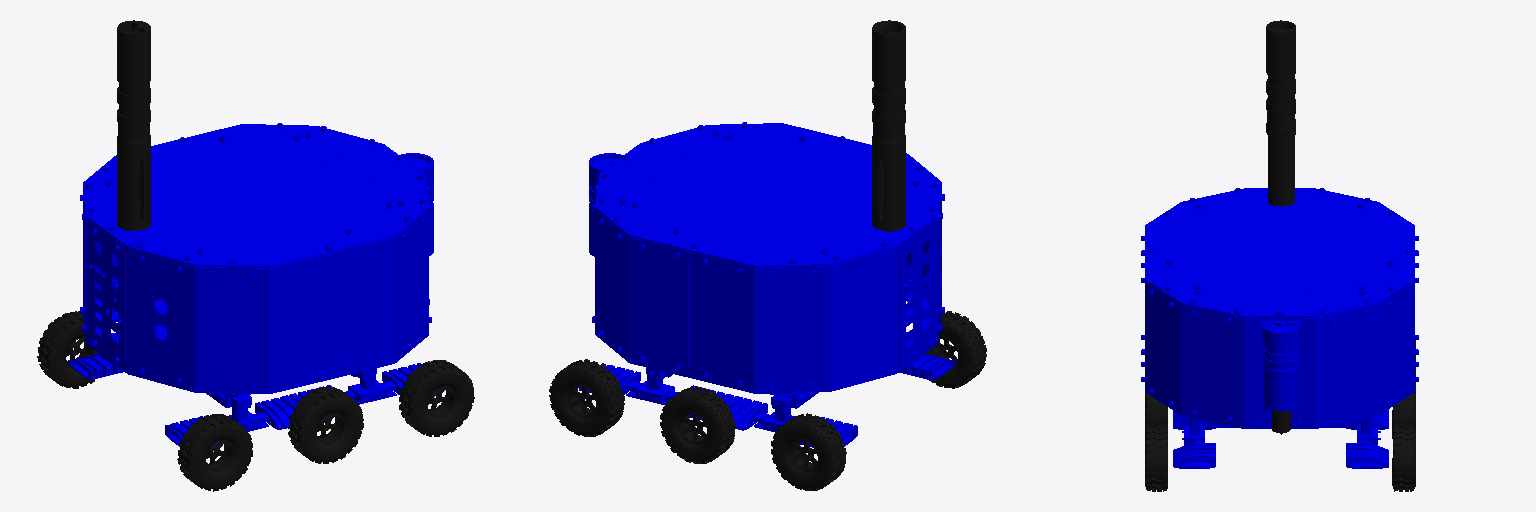
URDF robot description (eva_mars):
<?xml version='1.0'?>
<robot name='eva_mars'>
  
  <!-- Base Footprint 
    <link name="base_footprint"/> 
    <joint name="base_footprint_joint" type="fixed">     	
	<parent link="base_footprint"/>
     	<child link="base_link"/>	
    </joint> -->
    
    
   <!-- Base_Link (Taban)-->
   
    <link name='base_link'>
    	<inertial>
      	  <mass value="10.0"/>
      	  <origin xyz="0 0 0.12"/>
      	  <inertia ixx="0.149" ixy="0.0" ixz="0.0" iyy="0.098" iyz="0.0" izz="0.2433"/>
    	</inertial>
    
    	<visual>
      	  <origin rpy="1.57 0 1.57" xyz="-0.12 0.0 0.14"/>
      	    <geometry>
        	<!--<box size ="0.33 0.42 0.05"/>-->
        	    <mesh filename="package://eva_mars_description/meshes/base_taban.stl" scale="0.0035 0.0009 0.0015"/>
      	    </geometry>
      	    <material name="ChassisBlack">
        	    <color rgba="0.0 0.0 1.0 1.0"/>
      	    </material>
    	</visual>
    	<collision>
      	   <origin rpy="0 0 0" xyz="0 0 0.08"/>
      	    <geometry>
        	    <box size ="0.42 0.33 0.05"/>
      	    </geometry>
    	</collision> 
    	  
     </link>
     
   <!-- Base_link (Govde) -->
     
     <link name= 'base_govde'>

    	<visual>
      	  <origin rpy="0 0 0" xyz="0.075 -0.145 -0.07"/>
      	    <geometry>
        	    <mesh filename="package://eva_mars_description/meshes/model.stl" scale="0.0115 0.013 0.013"/>
        	<!--<box size = "0.34 0.42 0.16"/>-->
      	    </geometry>
      	    <material name="ChassisBlue">
        	    <color rgba="0.0 0.0 1.0 1.0"/>
      	    </material>
    	</visual>  
    	
    </link> 
    
     <joint name="base_govde_joint" type="fixed">
    	<origin rpy="0 0 0" xyz="0.0 -0.0 0.01"/>
    	<parent link="base_link"/>
    	<child link="base_govde"/>
     </joint>
    
  <!-- Wheels -->
  
    <link name='right_back_wheel'>
    	<inertial>
      	  <mass value="3.0"/>
      	  <origin xyz="-0.0 0.0 0.0"/>
      	  <inertia ixx="0.0054" ixy="0.0" ixz="0.0" iyy="0.0054" iyz="0.0" izz="0.0054"/>
    	</inertial>
    
    	<visual>
      	  <origin rpy="0 1.57 0" xyz="0.054 -0.054 0.02"/>
      	    <geometry>
        	    <mesh filename="package://eva_mars_description/meshes/wheel.stl" scale="0.025 0.025 0.025"/>
      	    </geometry>
      	    <material name="WheelBlack">
        	    <color rgba="0.117 0.117 0.117 1"/>
      	    </material>
    	</visual>
    	<collision>
      	   <origin rpy="0 0 0" xyz="0.0 0.0 0.0"/>
      	    <geometry>
      	        <cylinder length ="0.0575" radius ="0.045"/>
      	    </geometry>
    	</collision>   
     </link>
     
     <joint name="right_back_joint" type="continuous">
    	<axis xyz="0 0 -1"/>
    	<origin rpy="1.57 0 0" xyz="-0.1825 -0.20 0.0575"/>
    	<parent link="base_link"/>
    	<child link="right_back_wheel"/>
     </joint>
     
    <link name='right_middle_wheel'>
    	<inertial>
      	  <mass value="3.0"/>
      	  <origin xyz="-0.0 0.0 0.0"/>
      	  <inertia ixx="0.0054" ixy="0.0" ixz="0.0" iyy="0.0054" iyz="0.0" izz="0.0054"/>
    	</inertial>
    
    	<visual>
      	  <origin rpy="0 1.57 0" xyz="0.054 -0.054 0.02"/>
      	    <geometry>
        	    <mesh filename="package://eva_mars_description/meshes/wheel.stl" scale="0.025 0.025 0.025"/>
      	    </geometry>
      	    <material name="WheelBlack">
        	    <color rgba="0.117 0.117 0.117 1"/>
      	    </material>
    	</visual>
    	<collision>
      	   <origin rpy="0 0 0" xyz="0.0 0.0 0.0"/>
      	    <geometry>
        	    <cylinder length ="0.0575" radius ="0.045"/>
      	    </geometry>
    	</collision>     
     </link>
     
     <joint name="right_middle_joint" type="continuous">
    	<axis xyz="0 0 -1"/>
    	<origin rpy="1.57 0 0" xyz="0.0 -0.20 0.0575"/>
    	<parent link="base_link"/>
    	<child link="right_middle_wheel"/>
     </joint>
     
    <link name='right_front_wheel'>
    	<inertial>
      	  <mass value="3.0"/>
      	  <origin xyz="-0.0 0.0 0.0"/>
      	  <inertia ixx="0.0054" ixy="0.0" ixz="0.0" iyy="0.0054" iyz="0.0" izz="0.0054"/>
    	</inertial>
    
    	<visual>
      	  <origin rpy="0 1.57 0" xyz="0.054 -0.054 0.02"/>
      	    <geometry>
        	    <mesh filename="package://eva_mars_description/meshes/wheel.stl" scale="0.025 0.025 0.025"/>
      	    </geometry>
      	    <material name="WheelBlack">
        	    <color rgba="0.117 0.117 0.117 1"/>
      	    </material>
    	</visual>
    	<collision>
      	   <origin rpy="0 0 0" xyz="0.0 0.0 0.0"/>
      	    <geometry>
        	    <cylinder length ="0.0575" radius ="0.045"/>
      	    </geometry>
    	</collision>    
     </link>
     
     <joint name="right_front_joint" type="continuous">
    	<axis xyz="0 0 -1"/>
    	<origin rpy="1.57 0 0" xyz="0.1825 -0.20 0.0575"/>
    	<parent link="base_link"/>
    	<child link="right_front_wheel"/>
     </joint>
     
    <link name='left_back_wheel'>
    	<inertial>
      	  <mass value="3.0"/>
      	  <origin xyz="-0.0 0.0 0.0"/>
      	  <inertia ixx="0.0054" ixy="0.0" ixz="0.0" iyy="0.0054" iyz="0.0" izz="0.0054"/>
    	</inertial>
    
    	<visual>
      	  <origin rpy="0 1.57 0" xyz="0.054 -0.054 0.02"/>
      	    <geometry>
        	    <mesh filename="package://eva_mars_description/meshes/wheel.stl" scale="0.025 0.025 0.025"/>
      	    </geometry>
      	    <material name="WheelBlack">
        	    <color rgba="0.117 0.117 0.117 1"/>
      	    </material>
    	</visual>
    	<collision>
      	   <origin rpy="0 0 0" xyz="-0.0 0.0 0.0"/>
      	    <geometry>
        	    <cylinder length ="0.0575" radius ="0.045"/>
      	    </geometry>
    	</collision>   
     </link>
     
     <joint name="left_back_joint" type="continuous">
    	<axis xyz="0 0 -1"/>
    	<origin rpy="1.57 0 0" xyz="-0.1825 0.20 0.0575"/>
    	<parent link="base_link"/>
    	<child link="left_back_wheel"/>
     </joint>
     
    <link name='left_middle_wheel'>
    	<inertial>
      	  <mass value="3.0"/>
      	  <origin xyz="-0.0 0.0 0.0"/>
      	  <inertia ixx="0.0054" ixy="0.0" ixz="0.0" iyy="0.0054" iyz="0.0" izz="0.0054"/>
    	</inertial>
    
    	<visual>
      	  <origin rpy="0 1.57 0" xyz="0.054 -0.054 0.02"/>
      	    <geometry>
        	    <mesh filename="package://eva_mars_description/meshes/wheel.stl" scale="0.025 0.025 0.025"/>
      	    </geometry>
      	    <material name="WheelBlack">
        	    <color rgba="0.117 0.117 0.117 1"/>
      	    </material>
    	</visual>
    	<collision>
      	   <origin rpy="0 0 0" xyz="0.0 0.0 0.0"/>
      	    <geometry>
        	    <cylinder length ="0.0575" radius ="0.045"/>
      	    </geometry>
    	</collision>   
     </link>
     
     <joint name="left_middle_joint" type="continuous">
    	<axis xyz="0 0 -1"/>
    	<origin rpy="1.57 0 0" xyz="0.0 0.2 0.0575"/>
    	<parent link="base_link"/>
    	<child link="left_middle_wheel"/>
     </joint>
     
    <link name='left_front_wheel'>
    	<inertial>
      	  <mass value="3.0"/>
      	  <origin xyz="-0.0 0.0 0.0"/>
      	  <inertia ixx="0.0054" ixy="0.0" ixz="0.0" iyy="0.0054" iyz="0.0" izz="0.0054"/>
    	</inertial>
    
    	<visual>
      	  <origin rpy="0 1.57 0" xyz="0.054 -0.054 0.02"/>
      	    <geometry>
        	    <mesh filename="package://eva_mars_description/meshes/wheel.stl" scale="0.025 0.025 0.025"/>
      	    </geometry>
      	    <material name="WheelBlack">
        	    <color rgba="0.117 0.117 0.117 1"/>
      	    </material>
    	</visual>
    	<collision>
      	   <origin rpy="0 0 0" xyz="0.0 0.0 0.0"/>
      	    <geometry>
        	    <cylinder length ="0.0575" radius ="0.045"/>
      	    </geometry>
    	</collision>   
     </link>

     <joint name="left_front_joint" type="continuous">
    	<axis xyz="0 0 -1"/>
    	<origin rpy="1.57 0 0" xyz="0.1825 0.20 0.0575"/>
    	<parent link="base_link"/>
    	<child link="left_front_wheel"/>
     </joint> 

<!-- Camera Port -->
    <link name='camera_port'>
    	<inertial>
      	  <mass value="1.0"/>
      	  <origin xyz="-0.0 0.0 0.0"/>
      	  <inertia ixx="0.00016667" ixy="0.0" ixz="0.0" iyy="0.0001667" iyz="0.0" izz="0.0001667"/>
    	</inertial>
    
    	<visual>
      	  <origin rpy="0 0 0" xyz="0 0 -0.3"/>
      	    <geometry>
        	<!--<box size="0.05 0.02 0.3"/> -->
        	    <mesh filename="package://eva_mars_description/meshes/drillbox.stl" scale="0.0008 0.0008 0.010"/>
      	    </geometry>
      	    <material name="WheelBlack">
        	    <color rgba="0.117 0.117 0.117 1"/>
      	    </material>
    	</visual>
    <!--	<collision>
      	   <origin rpy="0 0 0" xyz="0 0 0"/>
      	     <geometry>
        	<box size="0.05 0.05 0.3"/>
      	     </geometry>
    	</collision> -->  
    </link>

    <joint name="camera_port_joint" type="continuous">
    	<axis xyz="0 0 1"/>
    	<origin rpy="0 0 -1.57" xyz="-0.2 0.0 0.48"/>
    	<parent link="base_link"/>
    	<child link="camera_port"/>
    	<limit effort="10.0" lower="-0.10" upper="0.10" velocity="0.5"/>
    </joint>
     
<!-- Camera Link -->
    <link name="camera_link">
     	<collision>
     	    <origin xyz="0 0 0" rpy="-1.57 0 0"/>
	        <geometry>
		        <box size="0.015 0.031 0.027"/>
	        </geometry>
	    </collision>

	    <visual>
	        <origin xyz="0 0 0" rpy="-1.57 0 -1.570796"/>
	        <geometry>
	            <mesh filename="package://eva_mars_description/meshes/camera.stl" scale="0.0011 0.0011 0.0011"/> 
	        </geometry>
	    </visual>
    </link>

    <joint name="camera_joint" type="fixed">
		<origin xyz="0.0 0.04 0.158" rpy="0 0 1.570796"/>
		<parent link="camera_port"/>
		<child link="camera_link"/>
    </joint>

    <joint name="camera_rgb_joint" type="fixed">
		<origin xyz="0.003 0.011 0.009" rpy="1.57 0 0"/>
		<parent link="camera_link"/>
		<child link="camera_rgb_frame"/>
    </joint>
	 
    <link name="camera_rgb_frame"/>

    <joint name="camera_rgb_optic_joint" type="fixed">
		<origin xyz="0 0 0" rpy="1.57 -1.57 1.57"/>
		<parent link="camera_rgb_frame"/>
		<child link="camera_rgb_optic_frame"/>
    </joint>
     
    <link name="camera_rgb_optic_frame"/>


<!-- Sondaj Components -->

     <link name="sondaj_link">

    	<inertial>
      	  <mass value="1.0"/>
      	  <origin xyz="-0.0 0.0 0.0"/>
      	  <inertia ixx="0.00016667" ixy="0.0" ixz="0.0" iyy="0.0001667" iyz="0.0" izz="0.0001667"/>
    	</inertial>
    
    	<visual>
      	  <origin rpy="0 0 0" xyz="0 0 0"/>
      	    <geometry>
        	    <cylinder length="0.13" radius="0.015"/> 
      	    </geometry>
      	    <material name="WheelBlack">
        	    <color rgba="0.117 0.117 0.117 1"/>
      	    </material>
    	</visual>
    	
     </link>
     
     <joint name="sondaj_joint" type="prismatic">
    	<axis xyz="0 0 1"/>
	    <origin xyz="0.26 0.0 0.21" rpy="0 0 1.570796"/>
	    <parent link="base_link"/>
	    <child link="sondaj_link"/>
	    <limit effort="10.0" lower="-0.04" upper="0.01" velocity="0.5"/>
     </joint>
     
     <link name="sondaj2_link">

    	<inertial>
      	  <mass value="1.0"/>
      	  <origin xyz="-0.0 0.0 0.0"/>
      	  <inertia ixx="0.00016667" ixy="0.0" ixz="0.0" iyy="0.0001667" iyz="0.0" izz="0.0001667"/>
    	</inertial>
    
    	<visual>
      	  <origin rpy="0 0 0" xyz="0 0 0"/>
      	    <geometry>
        	    <cylinder length="0.08" radius="0.01"/>
      	    </geometry>
      	    <material name="WheelBlack">
        	    <color rgba="0.117 0.117 0.117 1"/>
      	    </material>
    	</visual>
    	
     </link>
     
     <joint name="sondaj2_joint" type="prismatic">
    	<axis xyz="0 0 1"/>
	    <origin xyz="0.26 0.0 0.19" rpy="0 0 1.570796"/>
	    <parent link="base_link"/>
	    <child link="sondaj2_link"/>
	    <limit effort="10.0" lower="-0.10" upper="0.00" velocity="0.5"/>
     </joint>
     
     <link name="sondaj3_link">

    	<inertial>
      	  <mass value="1.0"/>
      	  <origin xyz="-0.0 0.0 0.0"/>
      	  <inertia ixx="0.00016667" ixy="0.0" ixz="0.0" iyy="0.0001667" iyz="0.0" izz="0.0001667"/>
    	</inertial>
    
    	<visual>
      	  <origin rpy="0 0 0" xyz="0 0 0"/>
      	    <geometry>
        	<!--<cylinder length="0.07" radius="0.005"/>-->
        	    <mesh filename="package://eva_mars_description/meshes/drill.stl" scale="0.015 0.015 0.03"/> 
      	    </geometry>
      	    <material name="WheelBlack">
        	    <color rgba="0.117 0.117 0.117 1"/>
      	    </material>
    	</visual>
    	
     </link>
     
     <joint name="sondaj3_joint" type="prismatic">
    	<axis xyz="0 0 1"/>
	    <origin xyz="0.26 0.0 0.135" rpy="0 0 1.570796"/>
	    <parent link="base_link"/>
	    <child link="sondaj3_link"/>
	    <limit effort="10.0" lower="-0.24" upper="0.00" velocity="0.5"/>
     </joint>
  
     <link name="sondaj_box_link">

    	<inertial>
      	  <mass value="1.0"/>
      	  <origin xyz="-0.0 0.0 0.0"/>
      	  <inertia ixx="0.00016667" ixy="0.0" ixz="0.0" iyy="0.0001667" iyz="0.0" izz="0.0001667"/>
    	</inertial>
    
    	<visual>
      	  <origin rpy="0 0 1.57" xyz="0 0 0"/>
      	    <geometry>
        	<!--<box size="0.04 0.04 0.14"/>-->
        	    <mesh filename="package://eva_mars_description/meshes/drillbox.stl" scale="0.001 0.001 0.004"/> 
      	    </geometry>
      	    <material name="ChassisBlack">
        	    <color rgba="0.0 0.0 1.0 1.0"/>
      	    </material>
    	</visual>
    	
     </link>
     
     <joint name="sondaj_box_joint" type="fixed">
	    <origin xyz="0.26 0.0 0.143" rpy="0 0 0"/>
	    <parent link="base_link"/>
	    <child link="sondaj_box_link"/>
     </joint>
     
   
<!-- Components' Gazebo References -->


    <gazebo reference="base_govde">
    	<material>Gazebo/Blue</material>
    </gazebo>
    <gazebo reference="camera_link">
    	<material value="Gazebo/DarkGrey"/>
    </gazebo>

    <gazebo reference="base_link">
        <material>Gazebo/Black</material>
    </gazebo>
    <gazebo reference="sondaj_link">
    	<material value="Gazebo/Grey"/>
    </gazebo>
    <gazebo reference="sondaj2_link">
    	<material value="Gazebo/Grey "/>
    </gazebo>
    <gazebo reference="sondaj3_link">
    	<material value="Gazebo/DarkGrey "/>
    </gazebo>
    <gazebo reference="sondaj_box_link">
    	<material value="Gazebo/DarkGrey"/>
    </gazebo>
    <gazebo reference="camera_port">
    	<material value="Gazebo/DarkGrey"/>
    </gazebo>
    <gazebo reference="left_front_wheel">
    	<material>Gazebo/Black</material>
    </gazebo>
    <gazebo reference="left_middle_wheel">
    	<material>Gazebo/Black</material>
    </gazebo>
    <gazebo reference="left_back_wheel">
    	<material>Gazebo/Black</material>
    </gazebo>
    <gazebo reference="right_front_wheel">
    	<material>Gazebo/Black</material>
    </gazebo>
    <gazebo reference="right_middle_wheel">
    	<material>Gazebo/Black</material>
    </gazebo>
    <gazebo reference="right_back_wheel">
    	<material>Gazebo/Black</material>
    </gazebo>

<!-- Diff Drive 6W Plugin -->
    <gazebo>
      <plugin name="diffdrive_plugin_6w" filename="libdiffdrive_plugin_6w.so">
        <alwaysOn>true</alwaysOn>
        <updateRate>20.0</updateRate>
	    <frontLeftJoint>left_front_joint</frontLeftJoint>
	    <frontRightJoint>right_front_joint</frontRightJoint>
	    <midLeftJoint>left_middle_joint</midLeftJoint>
	    <midRightJoint>right_middle_joint</midRightJoint>
	    <rearLeftJoint>left_back_joint</rearLeftJoint>
	    <rearRightJoint>right_back_joint</rearRightJoint>
        <wheelSeparation>0.2</wheelSeparation>
        <wheelDiameter>0.02</wheelDiameter>
        <torque>240</torque>
        <robotBaseFrame>base_link</robotBaseFrame>
        <commandTopic>cmd_vel</commandTopic>
        <odometryTopic>odom</odometryTopic>
        <odometryFrame>odom</odometryFrame>
      </plugin>
</gazebo>
     
<!-- Joint State Publisher -->

     <gazebo>
        <plugin name="joint_state_publisher" filename="libgazebo_ros_joint_state_publisher.so">
           <robotNamespace></robotNamespace>
           <jointName>right_front_joint, right_middle_joint, right_back_joint, left_front_joint, left_middle_joint, left_back_joint, sondaj_joint, sondaj2_joint, sondaj3_joint, camera_port_joint</jointName>
           <updateRate>10.0</updateRate>
           <alwaysOn>true</alwaysOn>
        </plugin>
    </gazebo>
    
<!-- Depth Camera Plugin -->
  <gazebo reference="camera_link">
    <sensor type="depth" name="Realsense_Camera_Depth">
      <always_on>true</always_on>
      <update_rate>1.0</update_rate>
		<camera>
			<horizontal_fov>1.3962634</horizontal_fov>
			<image>
				<width>640</width>
				<height>480</height>
				<format>R8G8B8</format>
			</image>
			<clip>
				<near>0.01</near>
				<far>5</far>
			</clip>
		</camera>

        <plugin name="depth_camera_plugin" filename="libgazebo_ros_openni_kinect.so">
          <alwaysOn>true</alwaysOn>
          <!-- Keep this zero, update_rate in the parent <sensor> tag
            will control the frame rate. -->
          <updateRate>1.0</updateRate>
          <cameraName>Realsense_Camera_Depth</cameraName>
          <imageTopicName>depthcam/image_raw</imageTopicName>
          <cameraInfoTopicName>depthcam/camera_info</cameraInfoTopicName>
          <depthImageTopicName>depthcam/image_raw</depthImageTopicName>
          <depthImageCameraInfoTopicName>depthcam/camera_info</depthImageCameraInfoTopicName>
          <pointCloudTopicName>depthcam/points</pointCloudTopicName>
          <frameName>camera_rgb_optic_frame</frameName>
          <pointCloudCutoff>0.0</pointCloudCutoff>
          <distortionK1>0.00000001</distortionK1>
          <distortionK2>0.00000001</distortionK2>
          <distortionK3>0.00000001</distortionK3>
          <distortionT1>0.00000001</distortionT1>
          <distortionT2>0.00000001</distortionT2>
          <CxPrime>0</CxPrime>
          <Cx>0</Cx>
          <Cy>0</Cy>
          <focalLength>0</focalLength>
          <hackBaseline>0</hackBaseline>
        </plugin>    
    </sensor>
  </gazebo>

<!-- RGB Camera Plugin -->
  <gazebo reference="camera_link">
    <sensor type="camera" name="Realsense_Camera_RGB">
      <always_on>true</always_on>
      <visualize>true</visualize>
	<camera>
	   <horizontal_fov>1.3962634</horizontal_fov>
	   <image>
		<width>640</width>
		<height>480</height>
		<format>R8G8B8</format>
	   </image>
	   <clip>
		<near>0.02</near>
		<far>300</far>
	   </clip>
	   <noise>
		<type>gaussian</type>
		<!-- Noise is sampled independently per pixel on each frame.
		       That pixel's noise value is added to each of its color
		       channels, which at that point lie in the range [0,1]. -->
		<mean>0.0</mean>
		<stddev>0.007</stddev>
	   </noise>
      </camera>
      <plugin name="camera_controller" filename="libgazebo_ros_camera.so">
        <alwaysOn>true</alwaysOn>
        <updateRate>30.0</updateRate>
        <cameraName>Realsense_Camera_RGB</cameraName>
        <frameName>camera_rgb_optic_frame</frameName>
        <imageTopicName>RGB/image_raw</imageTopicName>
        <cameraInfoTopicName>RGB/camera_info</cameraInfoTopicName>
        <hackBaseline>0.07</hackBaseline>
        <distortionK1>0.0</distortionK1>
        <distortionK2>0.0</distortionK2>
        <distortionK3>0.0</distortionK3>
        <distortionT1>0.0</distortionT1>
        <distortionT2>0.0</distortionT2>
      </plugin>
    </sensor>
  </gazebo>
  
<!-- Gazebo ROS Control Plugin -->

  <gazebo>
  	<plugin name="gazebo_ros_control" filename="libgazebo_ros_control.so">
    	<robotNamespace>eva_mars</robotNamespace>
    	<robotSimType>gazebo_ros_control/DefaultRobotHWSim</robotSimType>
  	</plugin>
  </gazebo>

<!-- Transmission Block (for Sondaj Component)-->

  <transmission name="tran_sondaj">
    <type>transmission_interface/SimpleTransmission</type>
    <joint name="sondaj_joint">
      <hardwareInterface>hardware_interface/PositionJointInterface</hardwareInterface>
    </joint>
    <actuator name="sondaj_motor">
      <hardwareInterface>hardware_interface/PositionJointInterface</hardwareInterface>
      <mechanicalReduction>1</mechanicalReduction>
    </actuator>
  </transmission>
  
  <transmission name="tran_sondaj2">
    <type>transmission_interface/SimpleTransmission</type>
    <joint name="sondaj2_joint">
      <hardwareInterface>hardware_interface/PositionJointInterface</hardwareInterface>
    </joint>
    <actuator name="sondaj2_motor">
      <hardwareInterface>hardware_interface/PositionJointInterface</hardwareInterface>
      <mechanicalReduction>1</mechanicalReduction>
    </actuator>
  </transmission>
  
  <transmission name="tran_sondaj3">
    <type>transmission_interface/SimpleTransmission</type>
    <joint name="sondaj3_joint">
      <hardwareInterface>hardware_interface/PositionJointInterface</hardwareInterface>
    </joint>
    <actuator name="sondaj3_motor">
      <hardwareInterface>hardware_interface/PositionJointInterface</hardwareInterface>
      <mechanicalReduction>1</mechanicalReduction>
    </actuator>
  </transmission>

  <transmission name="tran_camera_port">
    <type>transmission_interface/SimpleTransmission</type>
    <joint name="camera_port_joint">
      <hardwareInterface>hardware_interface/PositionJointInterface</hardwareInterface>
    </joint>
    <actuator name="camerport_motor">
      <hardwareInterface>hardware_interface/PositionJointInterface</hardwareInterface>
      <mechanicalReduction>1</mechanicalReduction>
    </actuator>
  </transmission>
</robot>

--- What the picture shows (computed from the rendered views, not written in the file) ---
The picture shows the robot from 3 angles, left to right: view 1: azimuth 30°, elevation 25°; view 2: azimuth 150°, elevation 25°; view 3: azimuth 270°, elevation 25°; orthographic projection.
Robot: eva_mars — 16 links, 15 joints (7 continuous, 3 prismatic, 5 fixed); root link base_link; default pose: all joints at 0.
Visible links, largest first — view 1: base_govde, camera_port, base_link, right_front_wheel, right_middle_wheel, right_back_wheel, left_back_wheel, sondaj_box_link; view 2: base_govde, camera_port, base_link, left_back_wheel, left_middle_wheel, left_front_wheel, right_back_wheel, sondaj_box_link; view 3: base_govde, camera_port, base_link, sondaj_box_link, left_front_wheel, right_front_wheel, left_middle_wheel, right_middle_wheel.
Boxes of the visible links, x1,y1,x2,y2 form: base_govde: [80, 123, 431, 393]; camera_port: [117, 20, 150, 230]; base_link: [67, 353, 439, 445]; right_front_wheel: [399, 360, 474, 436]; right_middle_wheel: [288, 387, 363, 463]; right_back_wheel: [177, 414, 252, 491]; left_back_wheel: [37, 311, 97, 388]; sondaj_box_link: [400, 153, 433, 255]; base_govde: [592, 122, 944, 393]; camera_port: [872, 20, 905, 231]; base_link: [579, 354, 956, 447]; left_back_wheel: [771, 413, 846, 490]; left_middle_wheel: [660, 386, 735, 463]; left_front_wheel: [549, 359, 624, 436]; right_back_wheel: [925, 311, 986, 388]; sondaj_box_link: [589, 153, 622, 256]; base_govde: [1141, 188, 1418, 428]; camera_port: [1266, 20, 1295, 206]; base_link: [1173, 409, 1388, 468]; sondaj_box_link: [1263, 321, 1299, 411]; left_front_wheel: [1392, 425, 1415, 491]; right_front_wheel: [1145, 425, 1167, 491]; left_middle_wheel: [1392, 382, 1415, 438]; right_middle_wheel: [1145, 393, 1167, 429].
Bounding box of the posed robot: 0.5405 × 0.4483 × 0.6459 m (x, y, z).
Meshes: 6 distinct files referenced, 11 mesh visuals loaded (5 binary STL); not drawn: 1 (reference not matched to a file when rendering).
